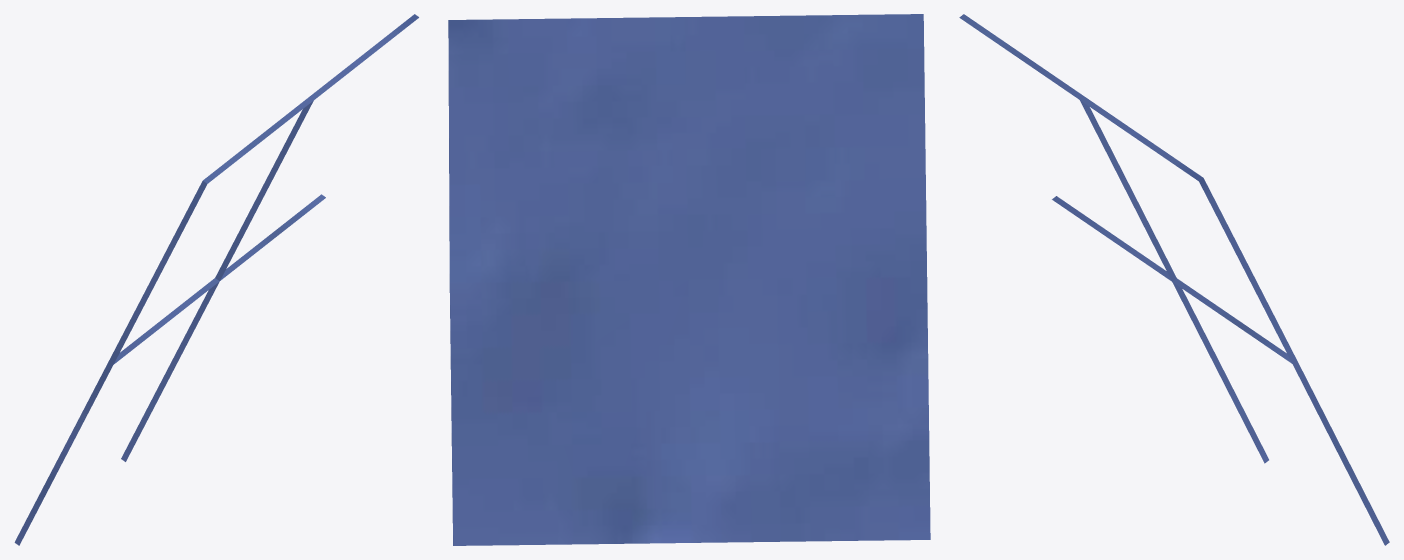
3 views of the same model, side by side, from view 1: azimuth 30°, elevation 25°; view 2: azimuth 150°, elevation 25°; view 3: azimuth 270°, elevation 25° (orthographic). The views are drawn at different scales.
Bounding box in the file's own units: 19637 × 17822 × 16743.
1 material, 1 textured.
